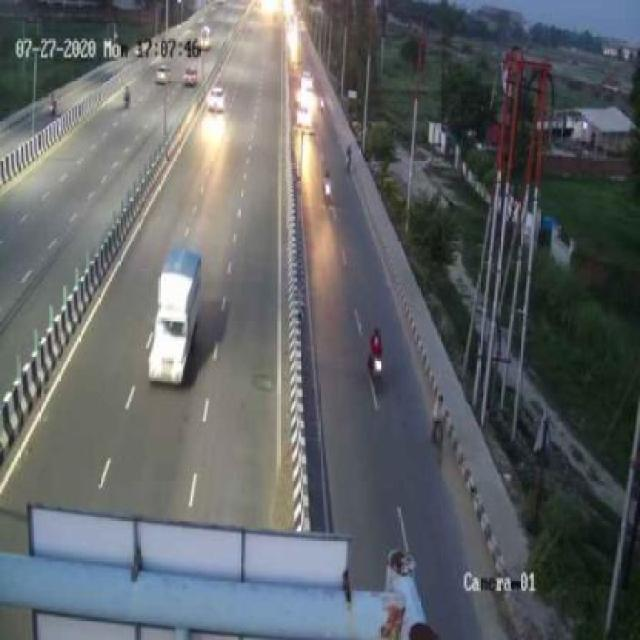car: (291, 96, 317, 132), (203, 80, 228, 117)
